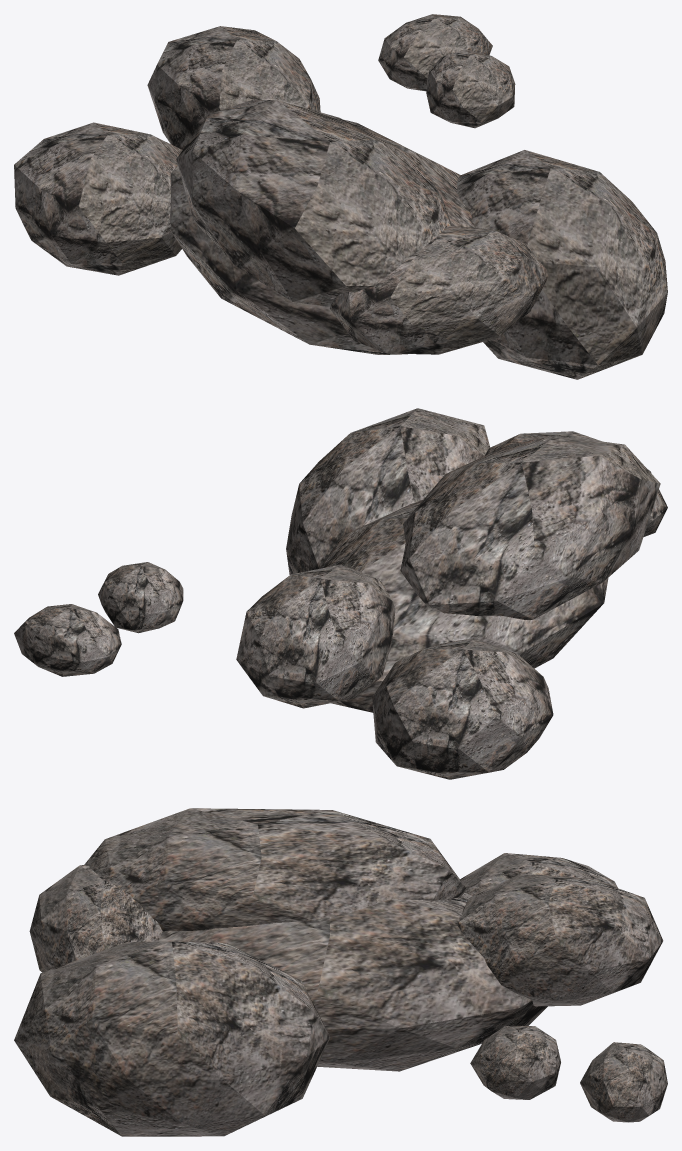
Rendered from rock1.fbx.
3 views of the same model, one above another, from view 1: azimuth 30°, elevation 25°; view 2: azimuth 150°, elevation 25°; view 3: azimuth 270°, elevation 25° (orthographic). The views are drawn at different scales.
Visible parts, largest first — view 1: Icosphere.001; view 2: Icosphere.001; view 3: Icosphere.001.
Part boxes in pixels (x1,y1,x2,y2): Icosphere.001: (14, 14, 667, 379); Icosphere.001: (14, 408, 667, 779); Icosphere.001: (14, 808, 667, 1136).
Bounding box in the file's own units: 323 × 141 × 376.
